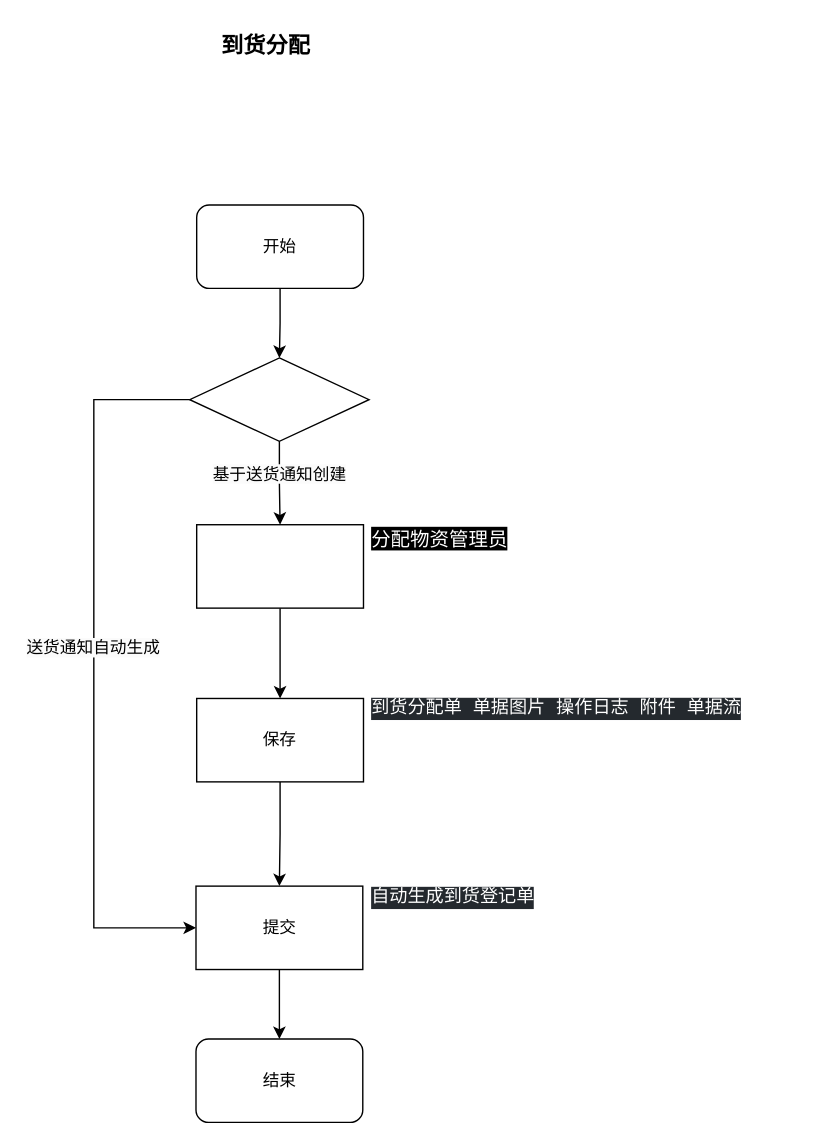
Some shapes in this 817 by 1147 pixel diagram are drawn without their labels. Here are the shapes that lost their labels. From the top down, the centre of each, then its label:
At [278,399]: "创建方式".
At [279,565]: "添加物料（行项目）".
